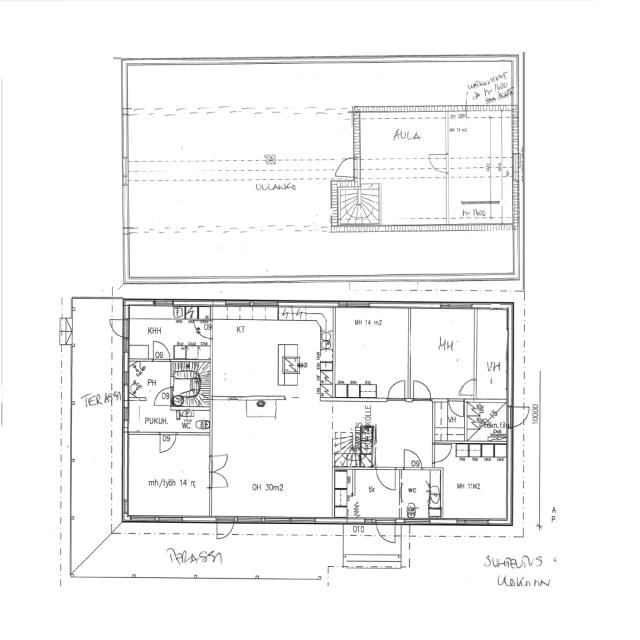door: (435, 398, 466, 440), (385, 377, 432, 400), (375, 463, 399, 491), (374, 519, 398, 545), (401, 446, 425, 469), (214, 516, 237, 540), (412, 377, 434, 400), (386, 378, 407, 400), (458, 376, 478, 399), (335, 156, 355, 179), (209, 468, 230, 489), (432, 442, 452, 464), (158, 431, 178, 453), (151, 340, 171, 361), (210, 452, 230, 472), (428, 152, 447, 173), (193, 318, 212, 339), (109, 317, 127, 338), (448, 397, 466, 417), (153, 386, 173, 404)
window: (456, 516, 491, 526), (236, 514, 266, 524), (470, 301, 497, 311), (342, 301, 370, 309), (152, 298, 174, 306)
zone: (210, 398, 334, 516), (210, 308, 326, 394), (328, 305, 410, 399), (125, 433, 212, 518), (334, 400, 436, 468), (409, 306, 476, 399), (358, 159, 448, 224), (438, 442, 510, 522), (124, 305, 210, 359), (358, 114, 448, 161), (334, 468, 402, 520), (474, 306, 510, 401), (399, 468, 442, 519), (125, 403, 196, 433), (126, 359, 172, 402), (466, 399, 508, 442), (171, 360, 207, 408), (432, 398, 465, 442), (452, 201, 511, 223), (176, 408, 210, 432)
